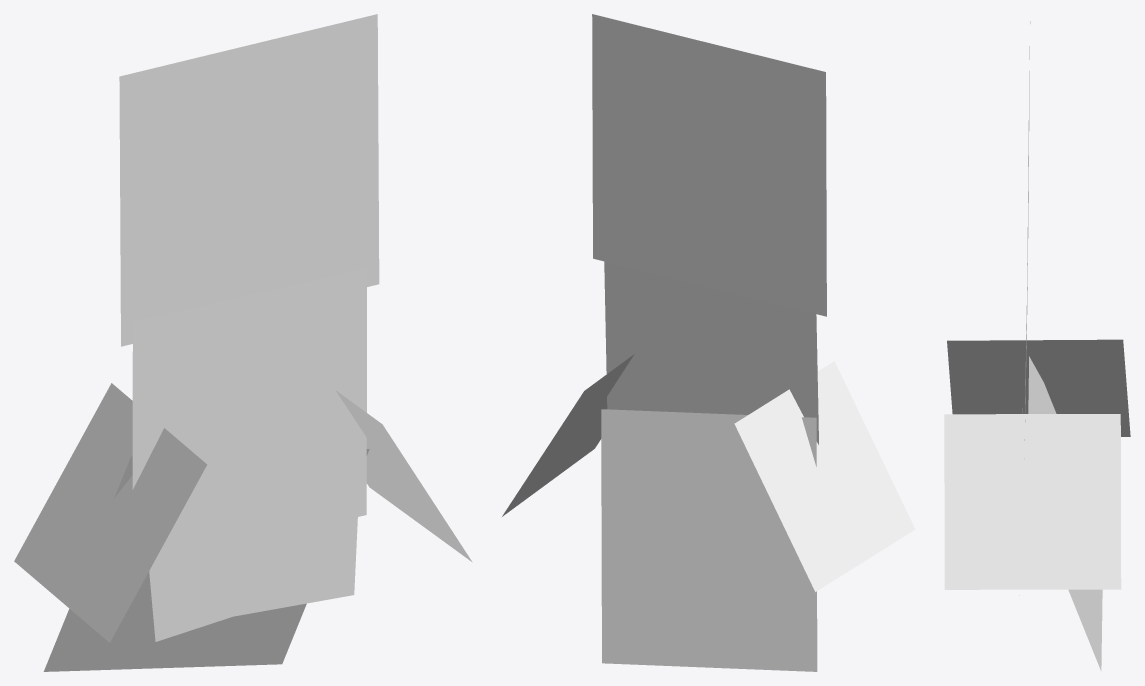
The model's file is anim@RESO_Pera_idle.glb.
3 views of the same model, side by side, from view 1: azimuth 30°, elevation 25°; view 2: azimuth 150°, elevation 25°; view 3: azimuth 270°, elevation 25° (orthographic). The views are drawn at different scales.
Visible parts, largest first — view 1: Head_Front, Body_Front, RightHand_Back, RightFoot_Front, Tail_Front, LeftFoot_Front, LeftHand_Front; view 2: Head_Back, Tail_Back, Body_Back, RightHand_Back, LeftHand_Front; view 3: LeftHand_Back, RightHand_Front, Tail_Back.
Part boxes in pixels (left/top/right/bottom): Head_Front: left=119, top=14, right=379, bottom=346; Body_Front: left=132, top=268, right=367, bottom=516; RightHand_Back: left=14, top=383, right=207, bottom=642; RightFoot_Front: left=149, top=462, right=287, bottom=641; Tail_Front: left=43, top=449, right=369, bottom=671; LeftFoot_Front: left=228, top=453, right=360, bottom=616; LeftHand_Front: left=335, top=390, right=472, bottom=562; Head_Back: left=592, top=14, right=826, bottom=316; Tail_Back: left=601, top=409, right=817, bottom=671; Body_Back: left=604, top=261, right=818, bottom=444; RightHand_Back: left=734, top=361, right=915, bottom=591; LeftHand_Front: left=502, top=354, right=634, bottom=516; LeftHand_Back: left=944, top=414, right=1121, bottom=589; RightHand_Front: left=947, top=339, right=1130, bottom=436; Tail_Back: left=1028, top=356, right=1102, bottom=670.
Bounding box in the file's own units: 55.3 × 98.8 × 29.12.
14 materials, 14 textured.
